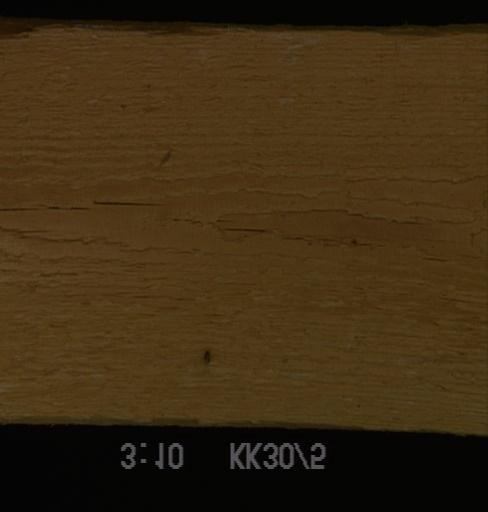small_knot: (196, 347, 215, 369)
split: (222, 222, 381, 256), (0, 193, 166, 223), (411, 249, 474, 270)
wave: (0, 15, 234, 44), (1, 412, 263, 428), (319, 25, 486, 44)
